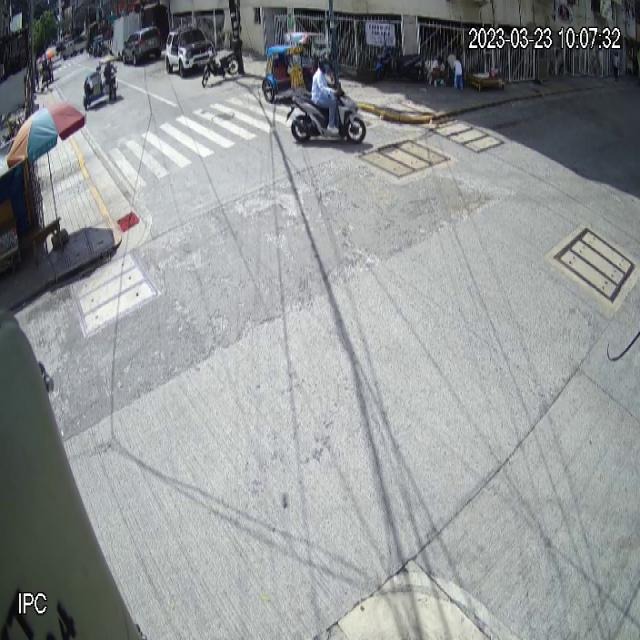Motorcycle: (285, 80, 367, 145)
Tricycle: (263, 29, 316, 103)
